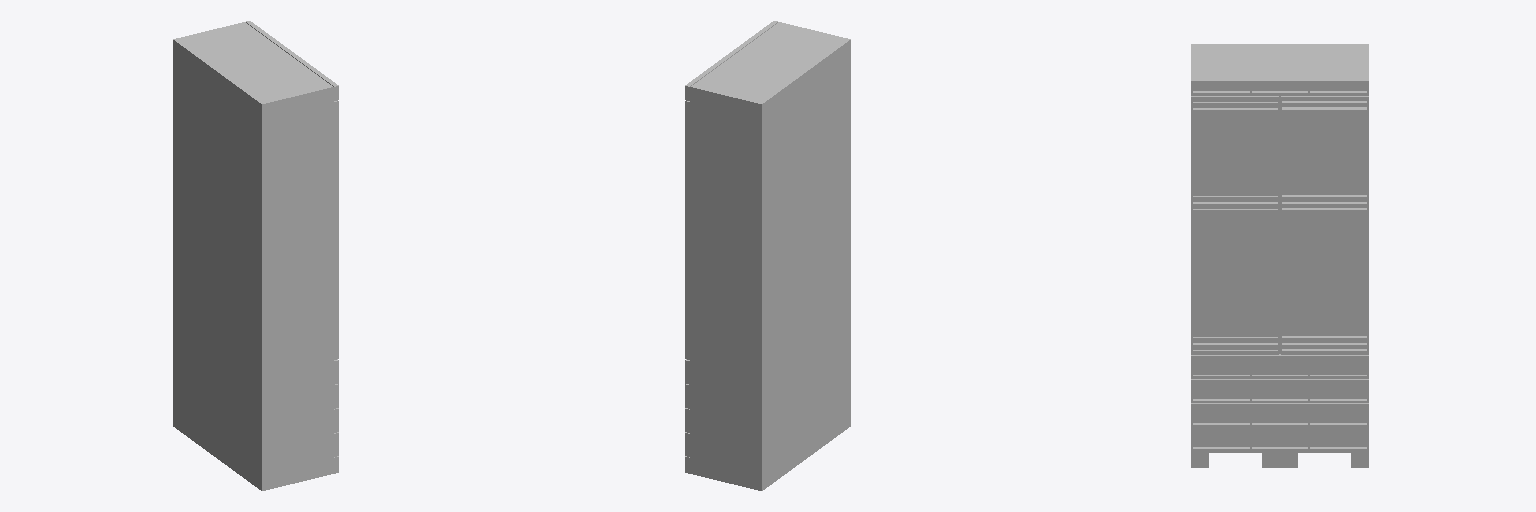
File: housesp_099.obj
The picture shows the model from 3 angles: view 1: azimuth 30°, elevation 25°; view 2: azimuth 150°, elevation 25°; view 3: azimuth 270°, elevation 25°; orthographic projection.
Bounding box in the file's own units: 50 × 240 × 100.